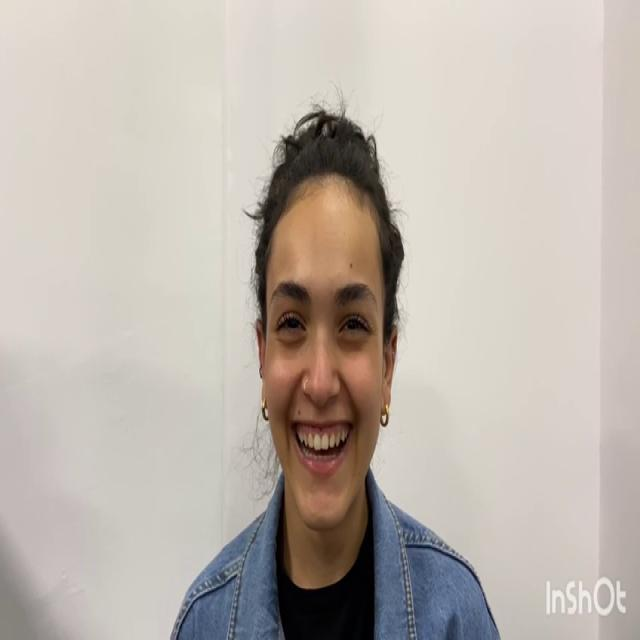happy: (258, 176, 386, 528)
